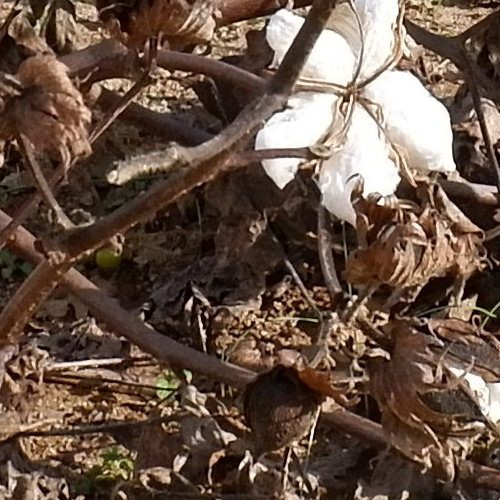immature_boll: (361, 288, 500, 483)
mature_boll: (243, 0, 468, 199)
